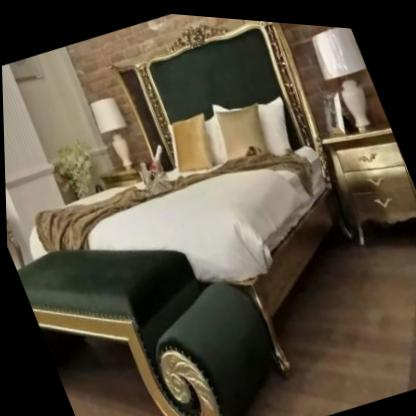Bed: (0, 0, 416, 416)
Lamp: (306, 20, 388, 132), (90, 92, 142, 172)
Nightstand: (315, 111, 416, 256)
